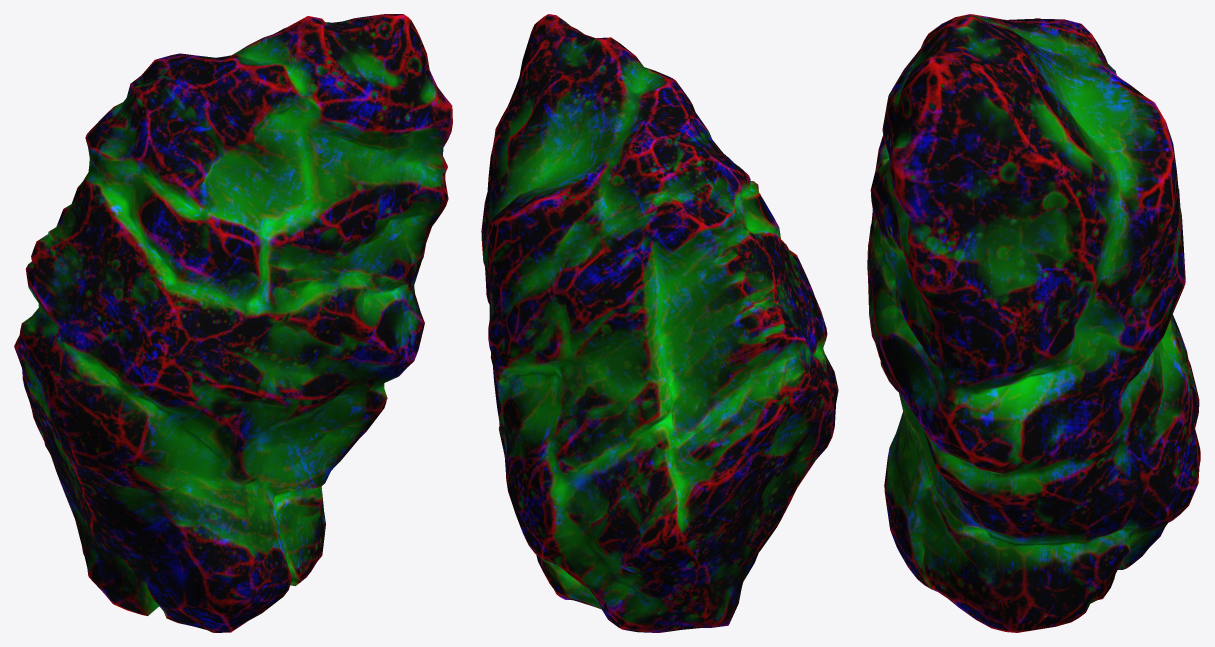
File: MSH_fwOF_Rock_L_01.fbx
3 renders of one model, left to right at view 1: azimuth 30°, elevation 25°; view 2: azimuth 150°, elevation 25°; view 3: azimuth 270°, elevation 25°, orthographic. The views are drawn at different scales.
Parts seen in each view (by area): view 1: MSH_fwOF_Rock_L_01_LOD0; view 2: MSH_fwOF_Rock_L_01_LOD0; view 3: MSH_fwOF_Rock_L_01_LOD0.
Part boxes in pixels (<box>): MSH_fwOF_Rock_L_01_LOD0: <box>14,14,452,632</box>; MSH_fwOF_Rock_L_01_LOD0: <box>481,14,838,632</box>; MSH_fwOF_Rock_L_01_LOD0: <box>867,14,1200,632</box>.
Size of what is drawn, in the model's own units: 5.77 by 8.72 by 4.23.
